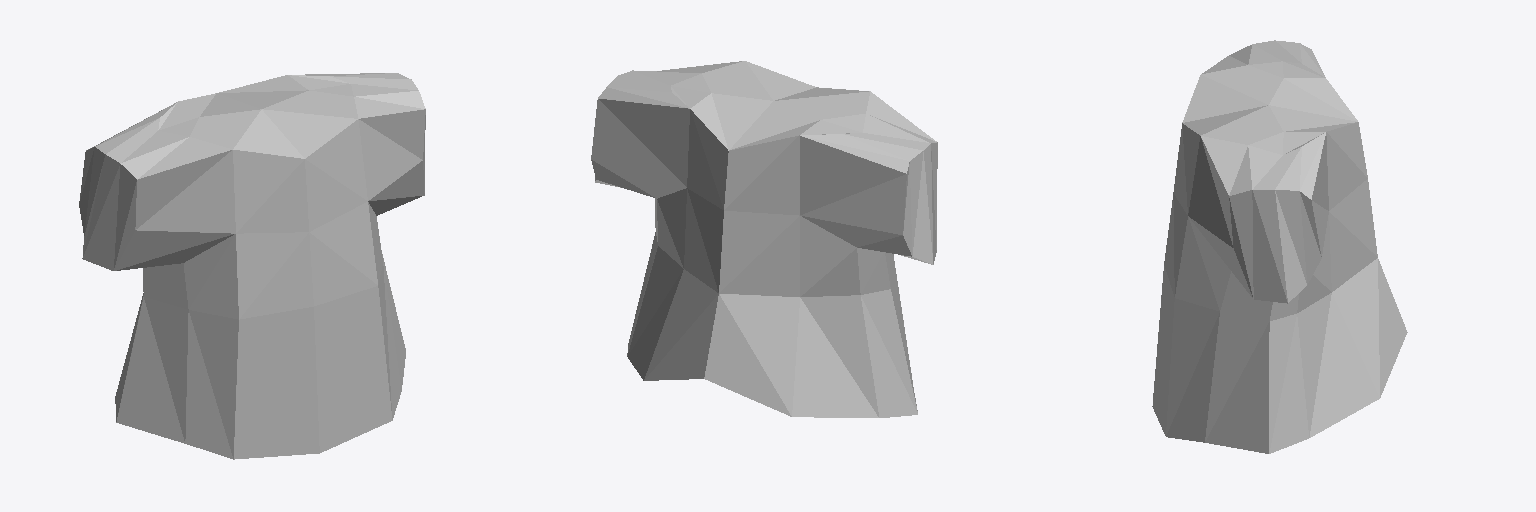
File: shirt.obj
The picture shows the model from 3 angles: view 1: azimuth 30°, elevation 25°; view 2: azimuth 150°, elevation 25°; view 3: azimuth 270°, elevation 25°; orthographic projection.
Parts seen in each view (by area): view 1: shirt; view 2: shirt; view 3: shirt.
Part boxes in pixels (x1,y1,x2,y2): shirt: (79,73,425,459); shirt: (591,61,937,417); shirt: (1152,40,1407,453).
Size of the model in its own units: 0.6352 by 0.54 by 0.4139.